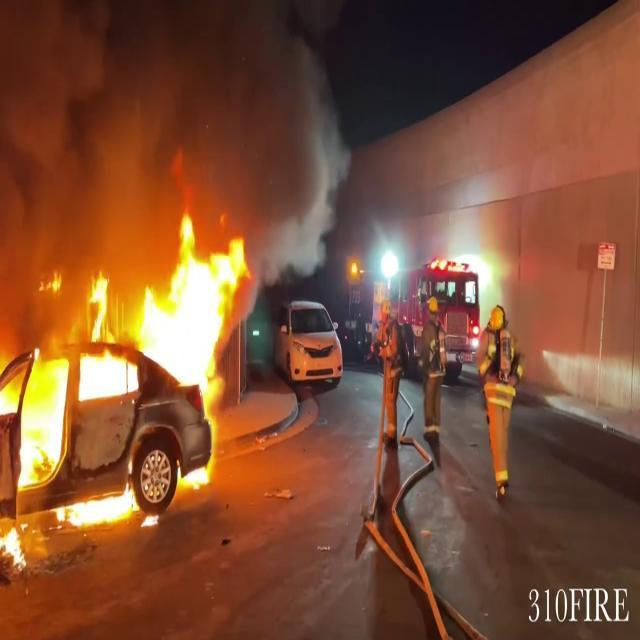Fire: (0, 210, 246, 536), (59, 479, 142, 533)
Smoke: (0, 0, 351, 253)
